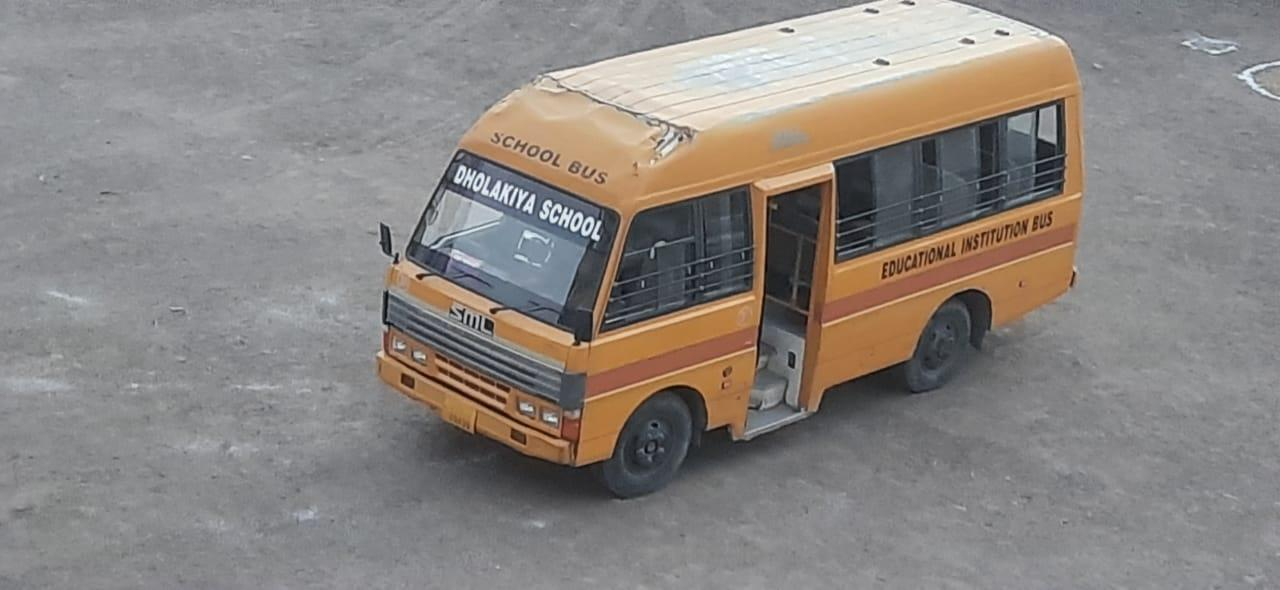Bus: (368, 4, 1093, 496)
